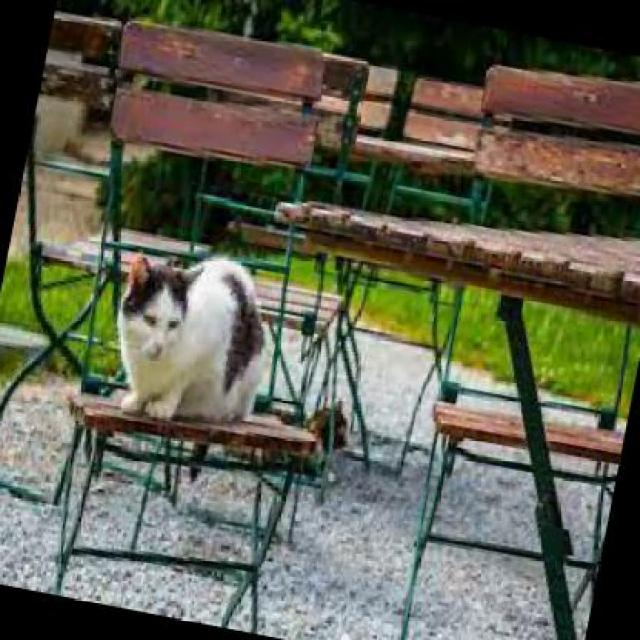animals: (92, 225, 291, 437)
